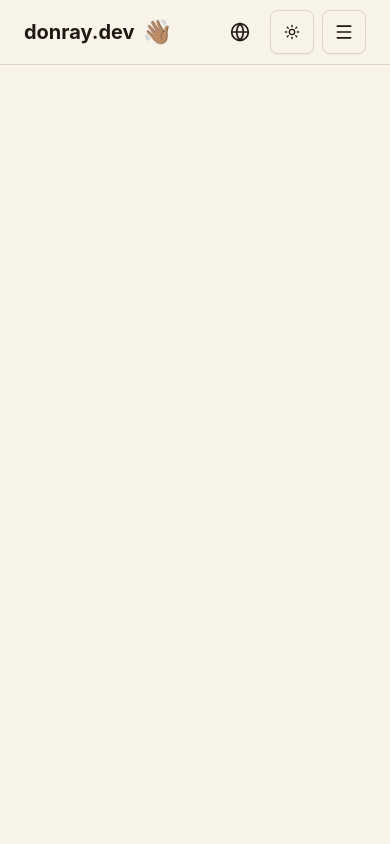
Test: Header mobile sheet › opens the sheet with navigation links
The image size is (390, 844).
Click the button named "Open menu": [344, 32] box 322,10 -> 366,54
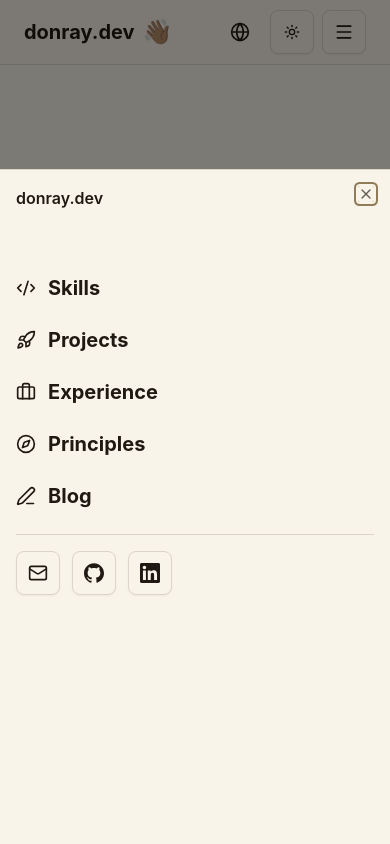
Now the dialog is shown
Now the link with id "skills" is shown, box 16,276 -> 100,300
